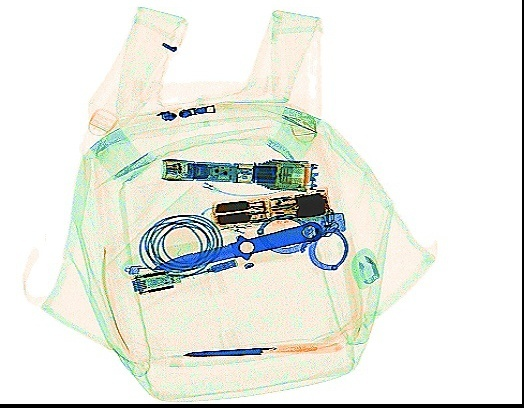handcuffs: (255, 194, 349, 271)
knife: (149, 220, 322, 271), (180, 338, 342, 358)
